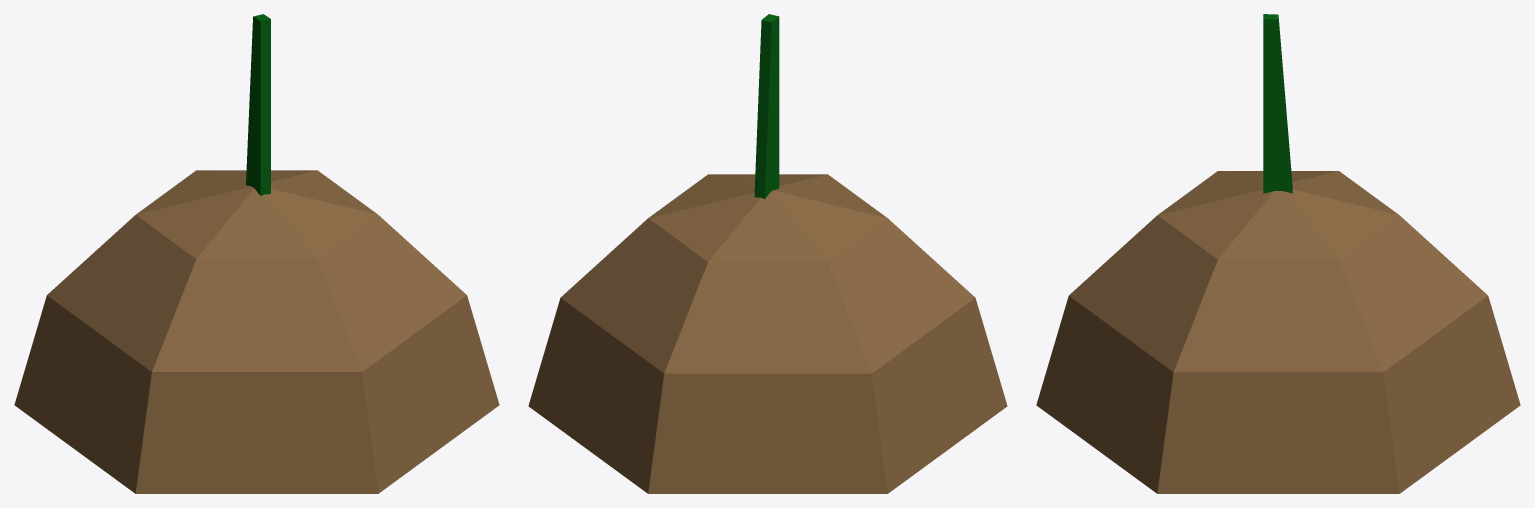
The model's file is stage_1.glb.
The picture shows the model from 3 angles, left to right: view 1: azimuth 30°, elevation 25°; view 2: azimuth 150°, elevation 25°; view 3: azimuth 270°, elevation 25°; orthographic projection.
Visible parts, largest first — view 1: 1; view 2: 1; view 3: 1.
Boxes of the visible parts, box(x1,y1,x2,y2) form: 1: box(14, 14, 499, 493); 1: box(528, 14, 1007, 493); 1: box(1036, 14, 1520, 493).
Size of the model in its own units: 0.2252 by 0.2306 by 0.26.
